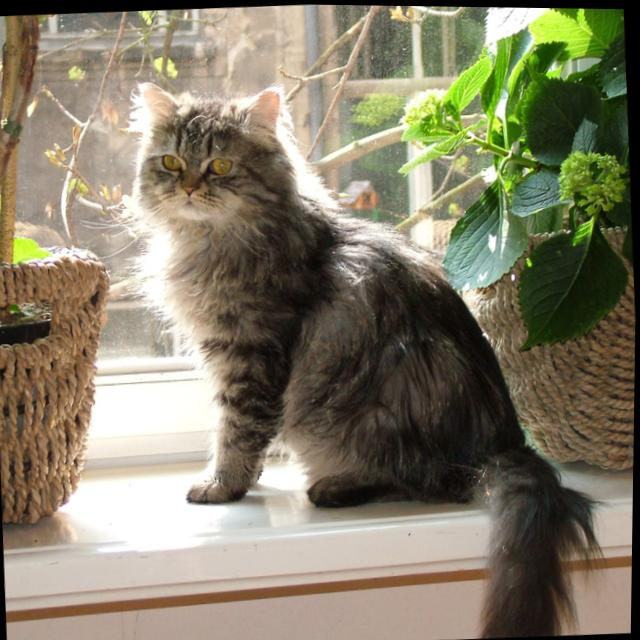animals: (142, 77, 284, 195)
